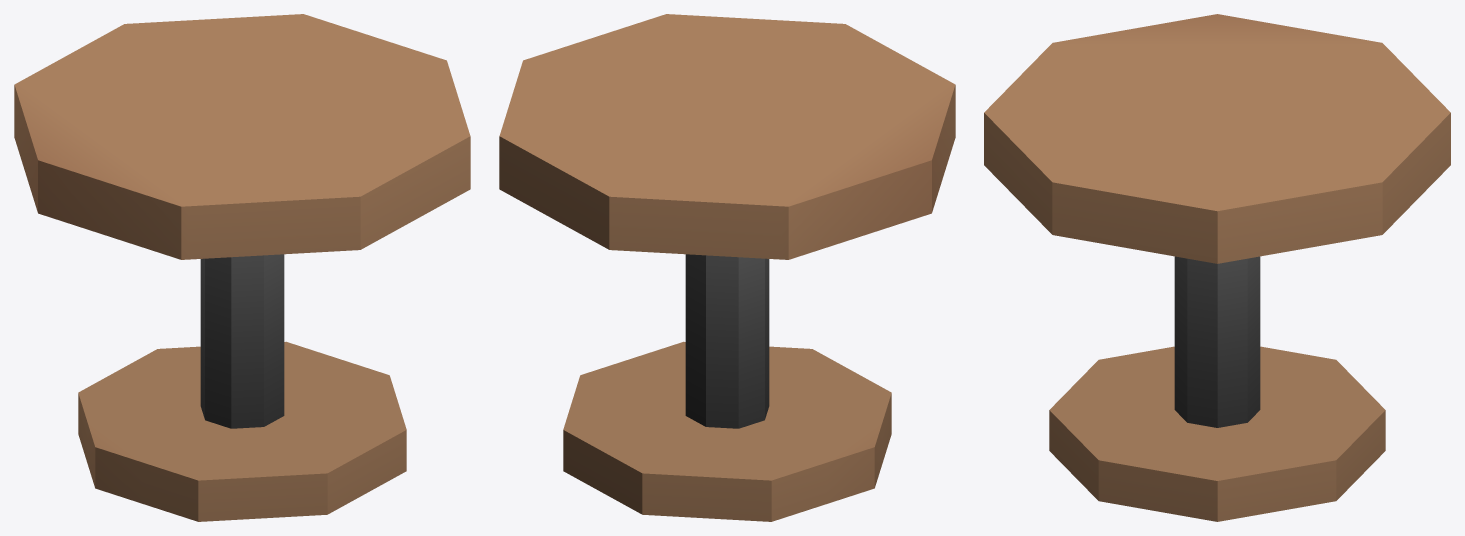
File: table wood.fbx
The picture shows the model from 3 angles, left to right: view 1: azimuth 30°, elevation 25°; view 2: azimuth 150°, elevation 25°; view 3: azimuth 270°, elevation 25°; orthographic projection.
Visible parts, largest first — view 1: table_wood; view 2: table_wood; view 3: table_wood.
Boxes of the visible parts, x1,y1,x2,y2 form: table_wood: (14, 14, 470, 521); table_wood: (499, 14, 955, 521); table_wood: (984, 14, 1450, 521).
Bounding box in the file's own units: 88.63 × 70.89 × 88.63.
Materials: 1 (1 with a texture image).
